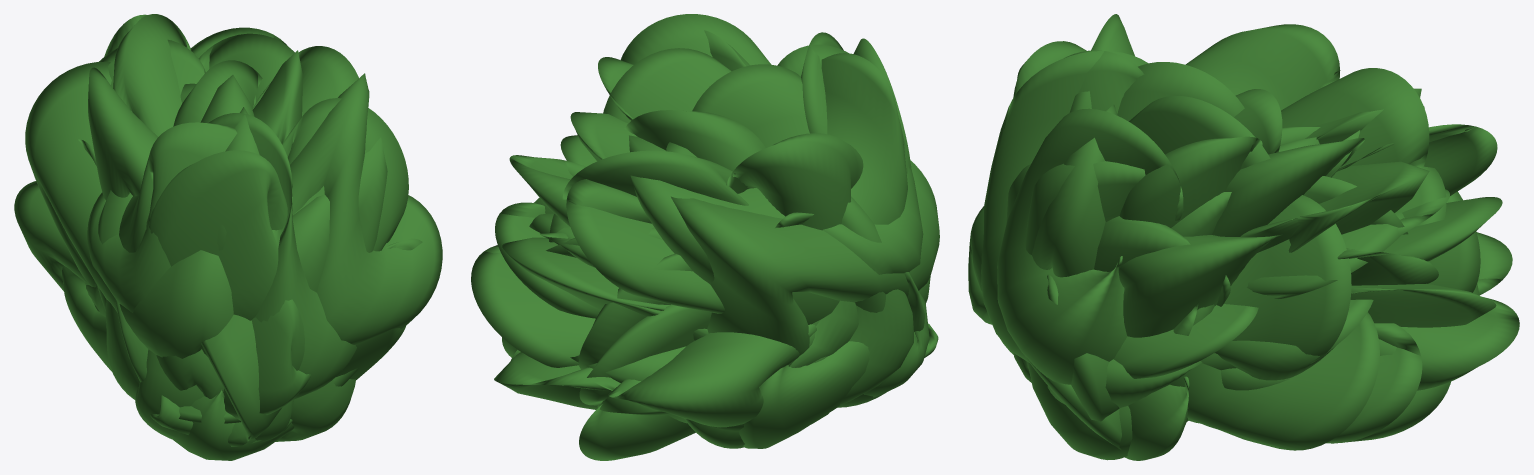
The picture shows the model from 3 angles, left to right: view 1: azimuth 30°, elevation 25°; view 2: azimuth 150°, elevation 25°; view 3: azimuth 270°, elevation 25°; orthographic projection. The views are drawn at different scales.
Parts seen in each view (by area): view 1: SO_CE; view 2: SO_CE; view 3: SO_CE.
Boxes of the visible parts, box(x1,y1,x2,y2) form: SO_CE: box(14, 14, 442, 460); SO_CE: box(471, 14, 939, 460); SO_CE: box(968, 14, 1519, 460).
Bounding box in the file's own units: 11.56 × 12.59 × 16.75.
